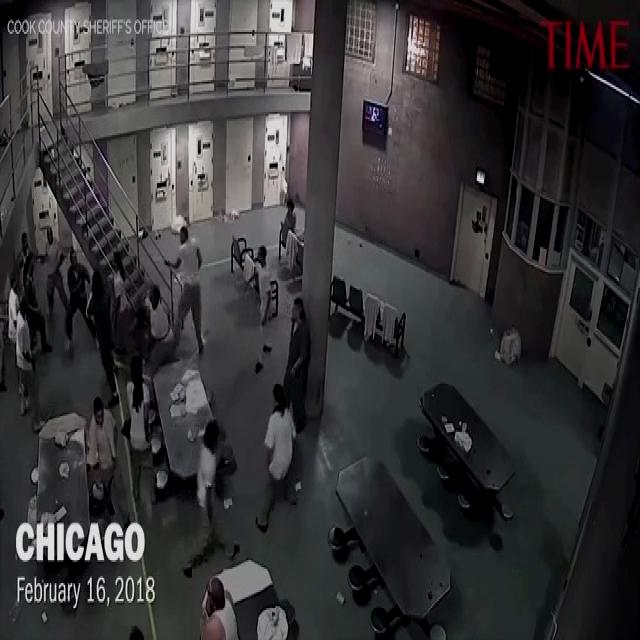fight: (184, 379, 294, 574), (65, 244, 114, 399)
